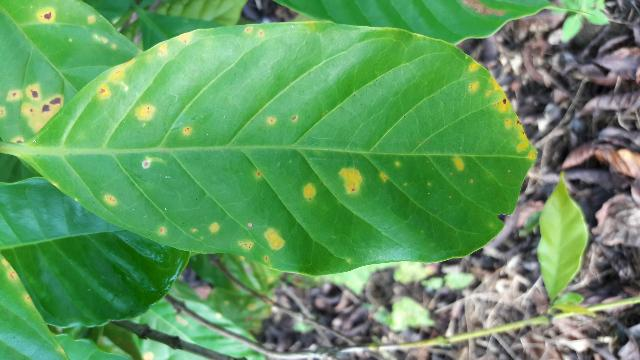rust_level_2: (22, 20, 538, 276)
